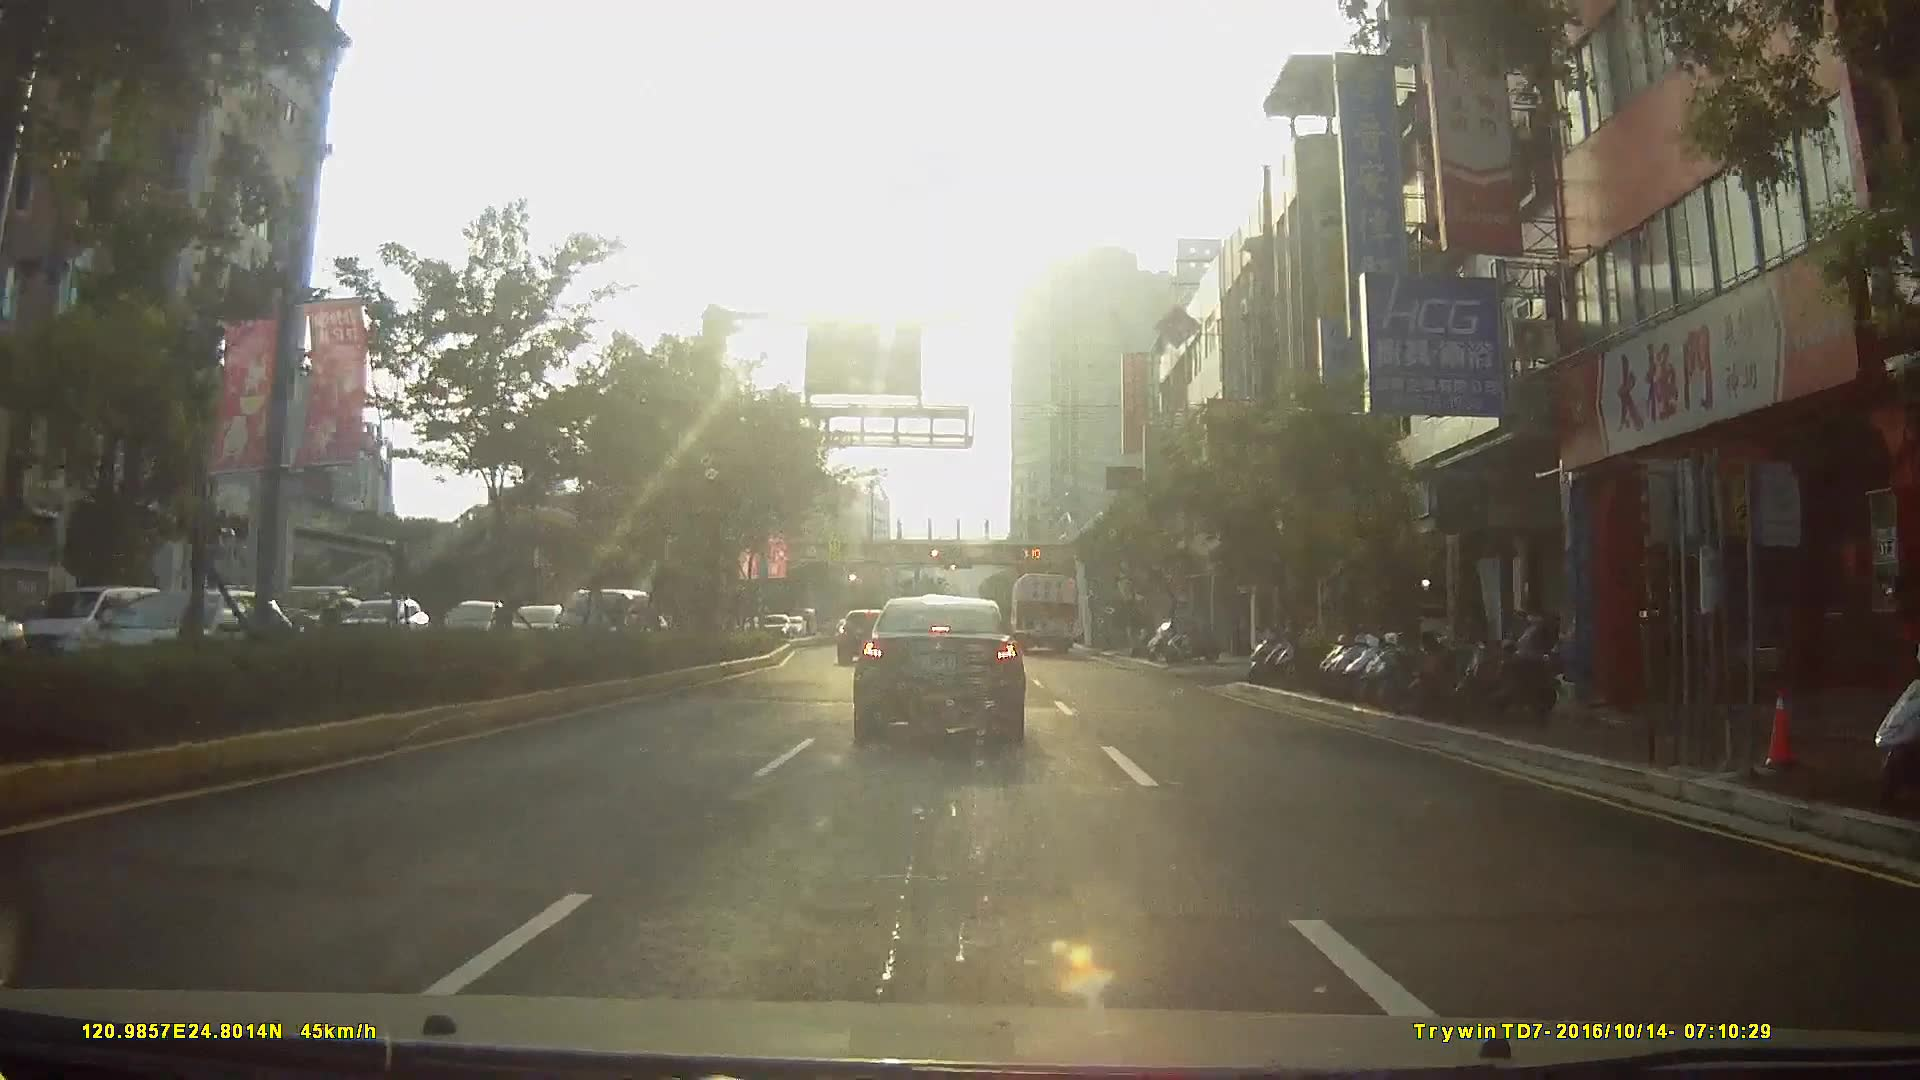vehicle: (51, 587, 313, 695), (851, 589, 1025, 744), (24, 585, 157, 662), (170, 592, 278, 658), (556, 589, 659, 654), (1006, 574, 1080, 659), (833, 608, 891, 665), (757, 612, 791, 640)
